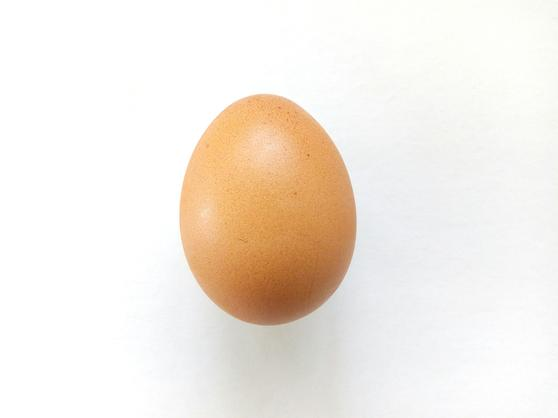egg: (174, 86, 361, 328)
